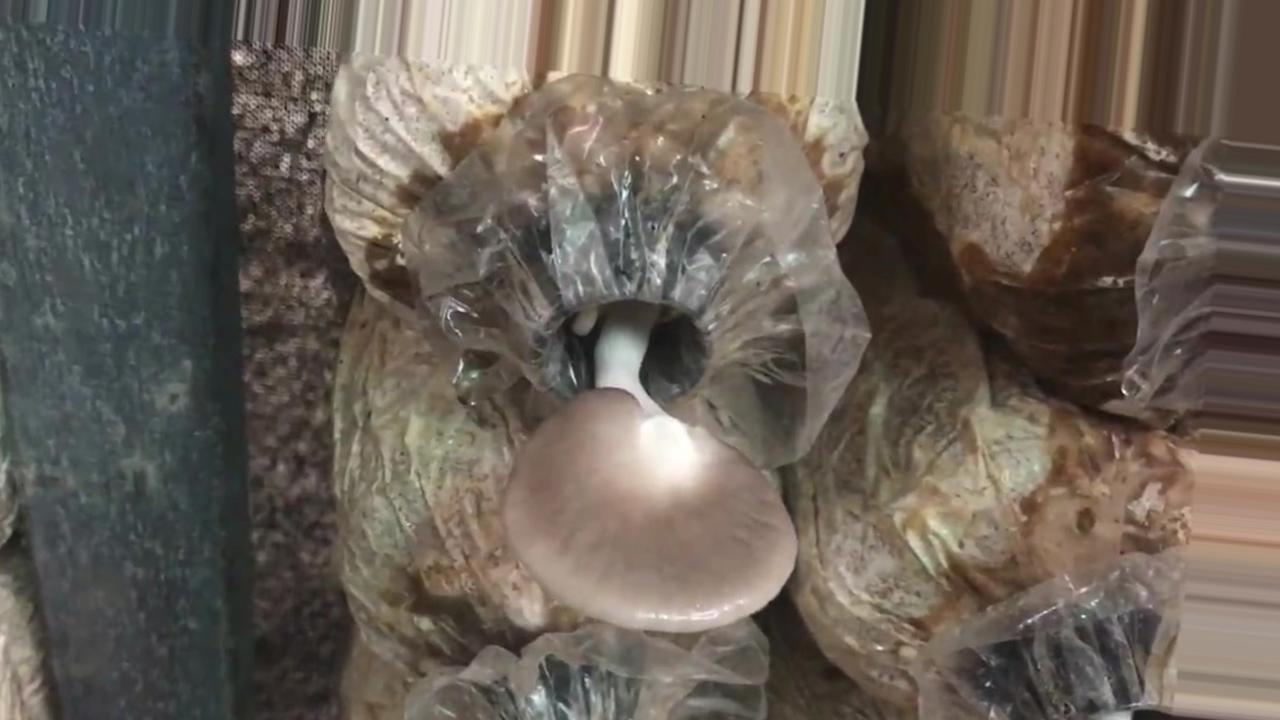nam: (496, 195, 799, 641)
